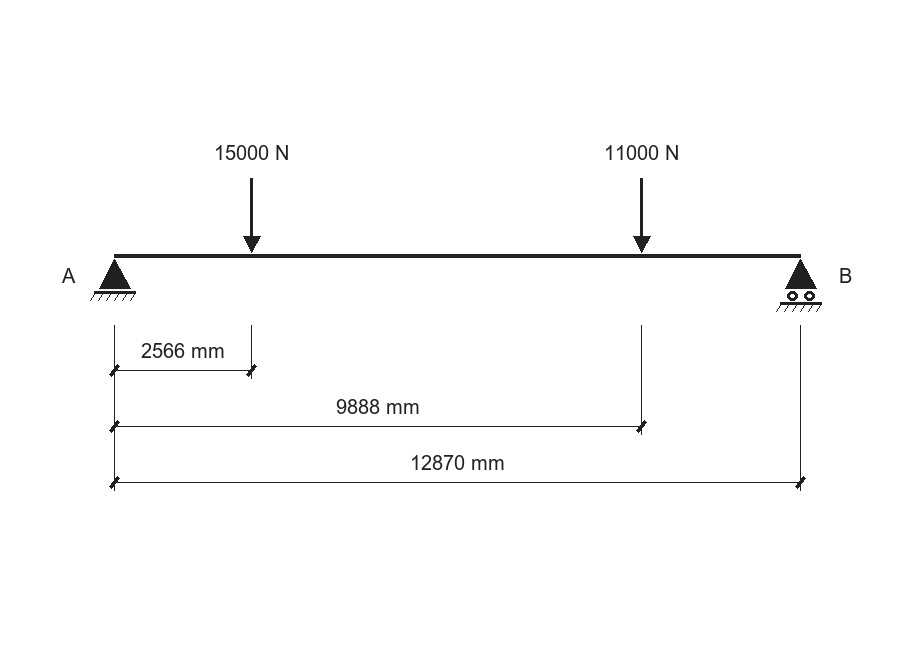pin_support: (90, 259, 136, 301)
point_load: (243, 178, 261, 253), (633, 178, 651, 253)
roller_support: (776, 259, 822, 312)
